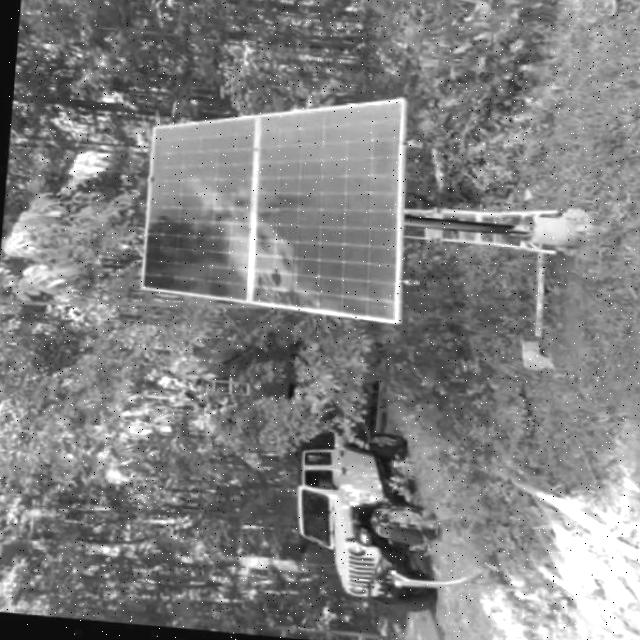Normal Solar Panel: (138, 81, 416, 326)
